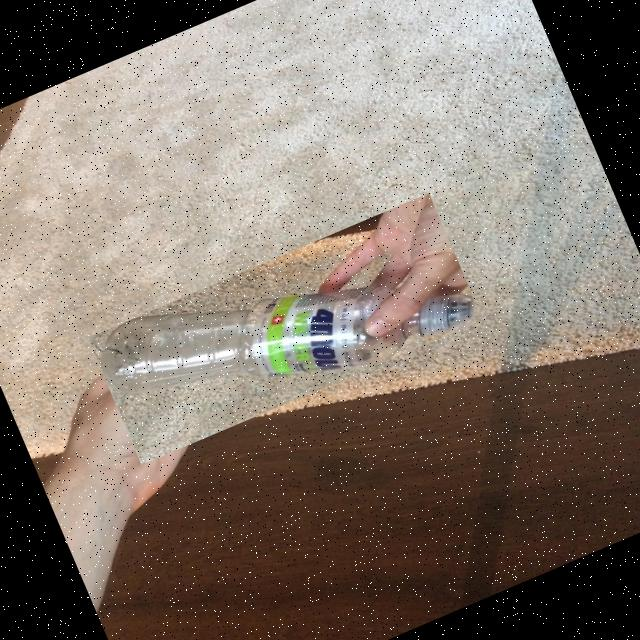Clear plastic bottle: (101, 285, 474, 393)
